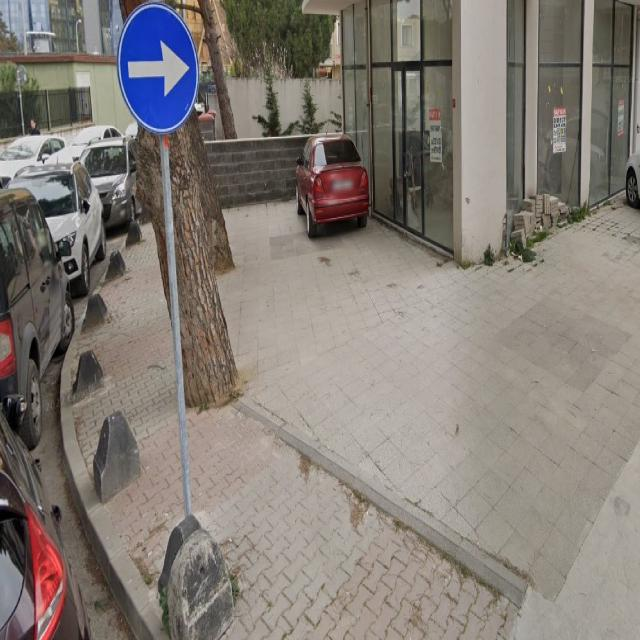Turn Right: (119, 7, 203, 128)
